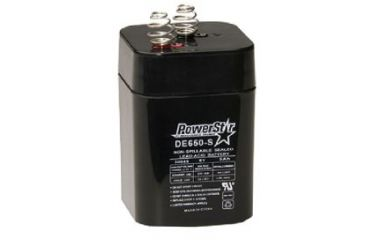6V: (112, 4, 264, 231)
